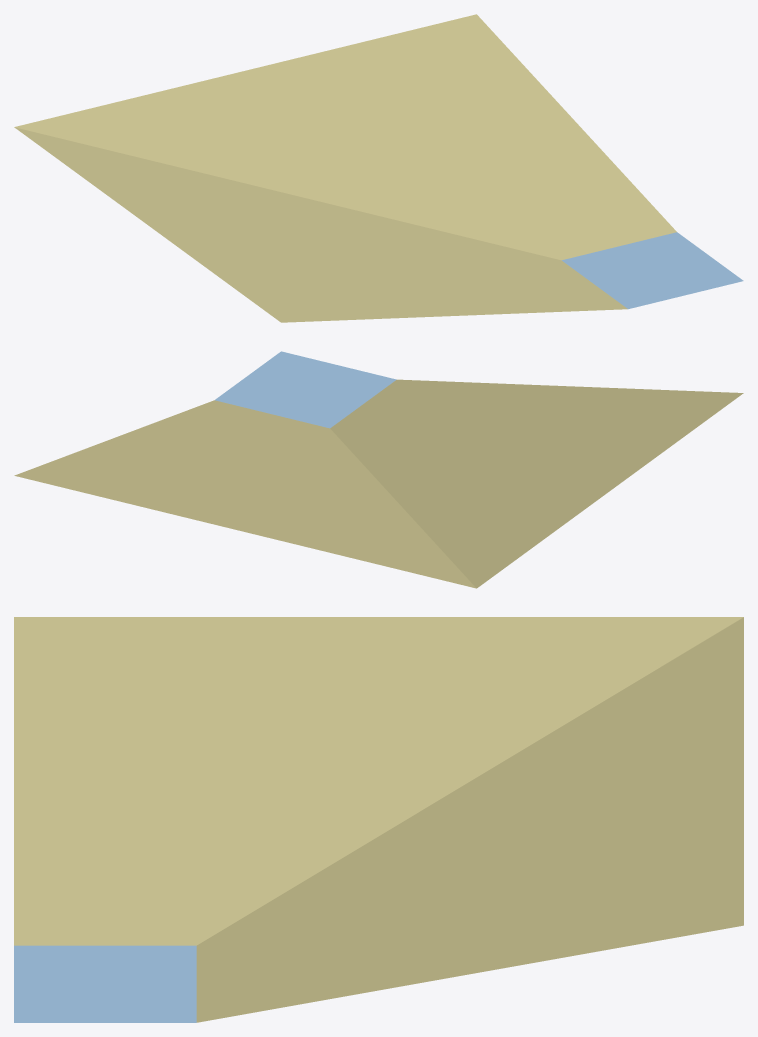
The model's file is beach_tile_1x1_001.glb.
3 views of the same model, one above another, from view 1: azimuth 30°, elevation 25°; view 2: azimuth 150°, elevation 25°; view 3: azimuth 270°, elevation 25° (orthographic). The views are drawn at different scales.
Visible parts, largest first — view 1: beach_tile_1x1_001; view 2: beach_tile_1x1_001; view 3: beach_tile_1x1_001.
Boxes of the visible parts, bbox=[...] form: beach_tile_1x1_001: bbox=[14, 14, 743, 322]; beach_tile_1x1_001: bbox=[14, 351, 743, 588]; beach_tile_1x1_001: bbox=[14, 617, 743, 1022].
Bounding box in the file's own units: 8 × 1.18 × 8.
1 material, 1 textured.
